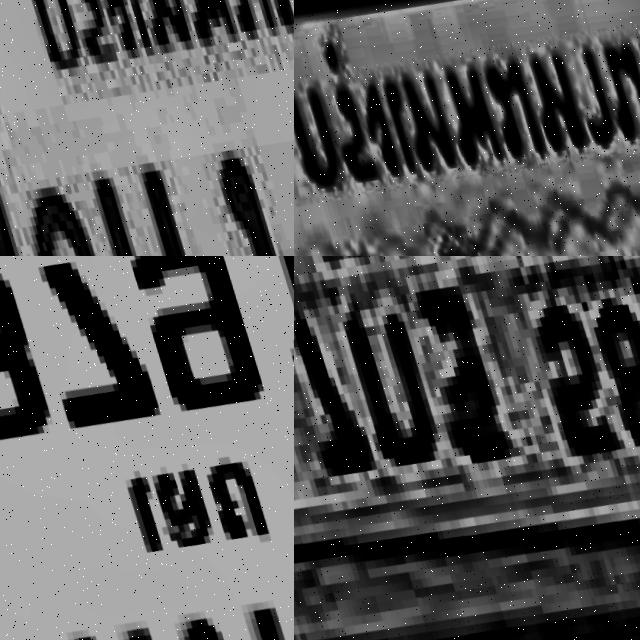license-plate: (294, 256, 640, 612), (0, 256, 294, 640), (294, 0, 640, 256), (0, 0, 294, 256)
